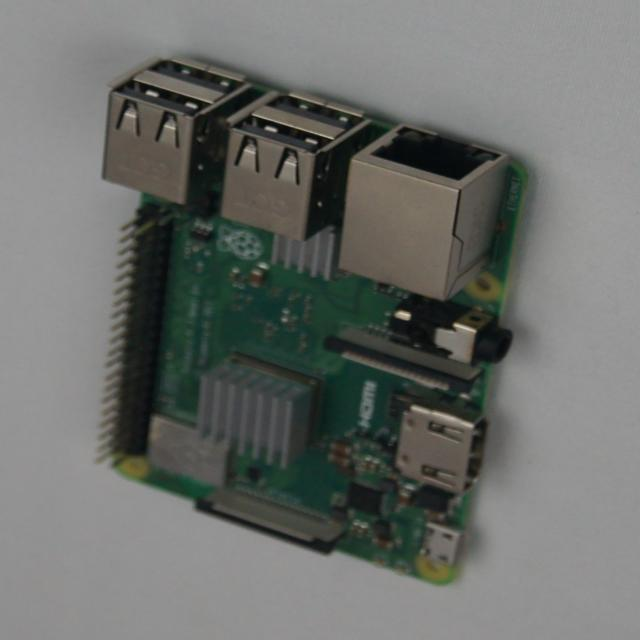Raspberry Pi 3 B-: (101, 58, 527, 583)
